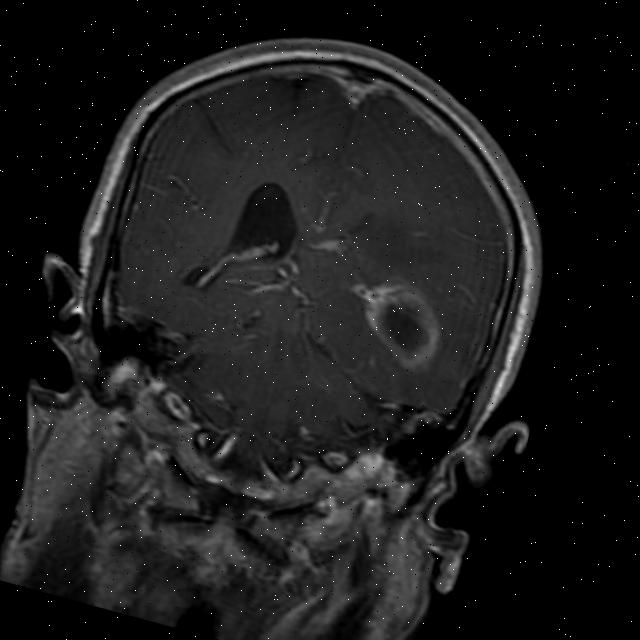Glioma: (336, 268, 450, 377)
